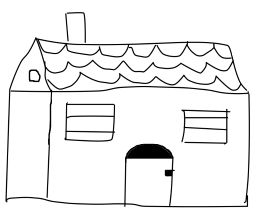big_house: (1, 1, 260, 215)
chimney: (57, 7, 99, 50)
closed_window: (176, 102, 234, 150), (61, 98, 119, 146)
door: (119, 140, 177, 210)
roof: (7, 34, 255, 102)
wall: (43, 82, 252, 210)
